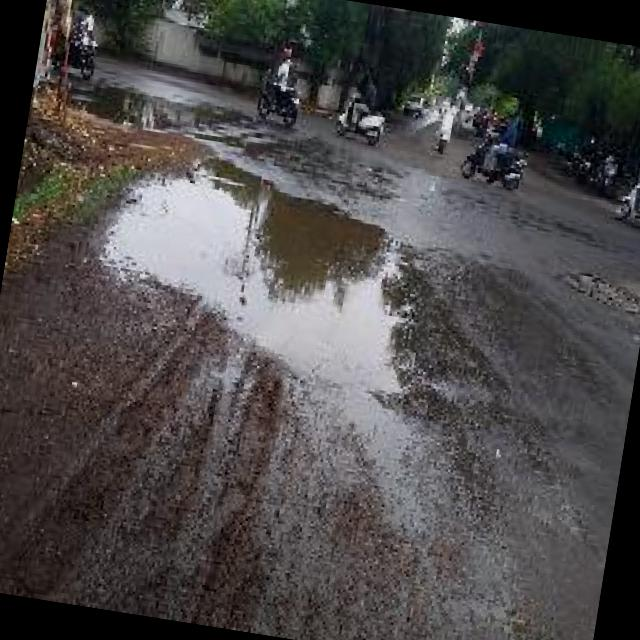stagnation: (69, 140, 420, 440)
